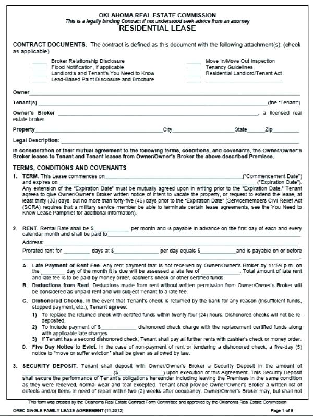textline: (30, 88, 303, 99), (20, 253, 303, 262), (44, 239, 301, 248), (61, 137, 300, 146), (38, 100, 268, 108), (56, 110, 260, 118), (57, 180, 257, 186), (107, 233, 302, 239), (34, 126, 163, 135), (104, 173, 244, 181), (204, 77, 284, 86), (171, 126, 235, 135), (20, 370, 112, 376), (114, 247, 161, 255), (101, 321, 137, 331), (92, 224, 131, 233), (118, 370, 164, 377), (200, 247, 235, 256), (200, 269, 240, 276), (272, 127, 299, 135), (62, 248, 91, 255), (40, 269, 66, 276), (30, 57, 49, 66), (183, 58, 203, 66), (247, 127, 266, 135), (30, 77, 49, 84), (30, 65, 48, 72), (183, 66, 204, 72), (183, 78, 203, 84), (183, 72, 203, 77), (29, 72, 47, 77)
